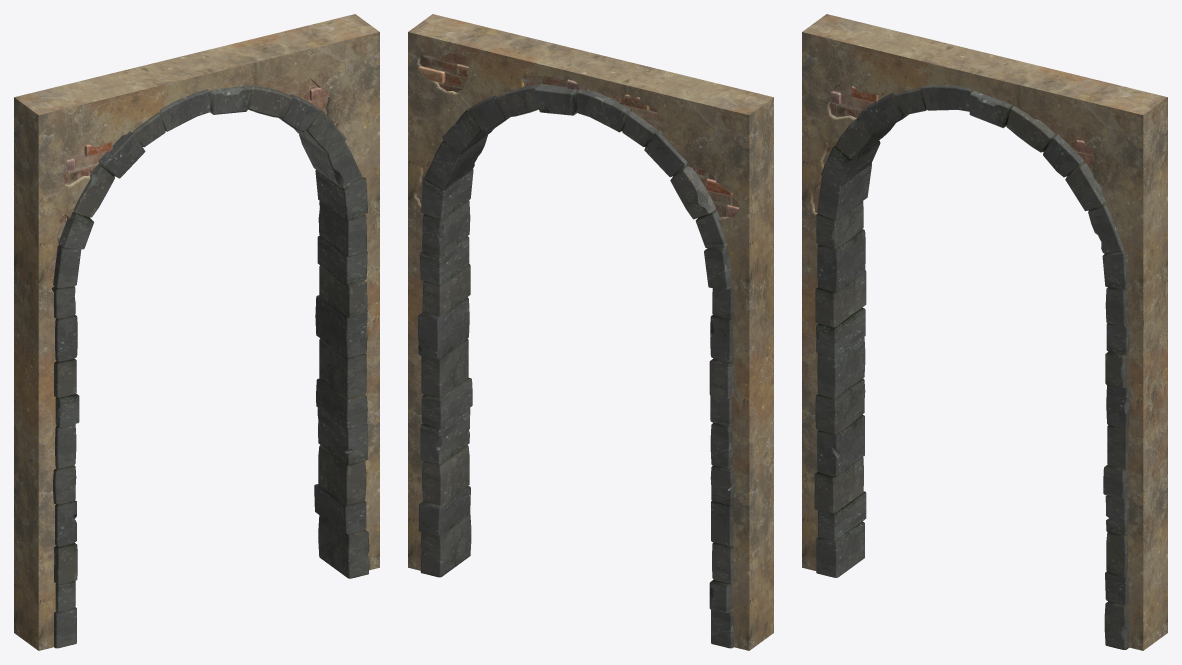
3 renders of one model, left to right at view 1: azimuth 30°, elevation 25°; view 2: azimuth 150°, elevation 25°; view 3: azimuth 330°, elevation 25°, orthographic.
Parts seen in each view (by area): view 1: SM_Human_Ruins_Arch_03_v1_LOD0; view 2: SM_Human_Ruins_Arch_03_v1_LOD0; view 3: SM_Human_Ruins_Arch_03_v1_LOD0.
Boxes of the visible parts, left/top/right/bottom form: SM_Human_Ruins_Arch_03_v1_LOD0: left=14, top=14, right=379, bottom=650; SM_Human_Ruins_Arch_03_v1_LOD0: left=408, top=14, right=773, bottom=650; SM_Human_Ruins_Arch_03_v1_LOD0: left=802, top=14, right=1167, bottom=650.
Bounding box in the file's own units: 4 × 6 × 0.6827.
4 materials, 4 textured.
